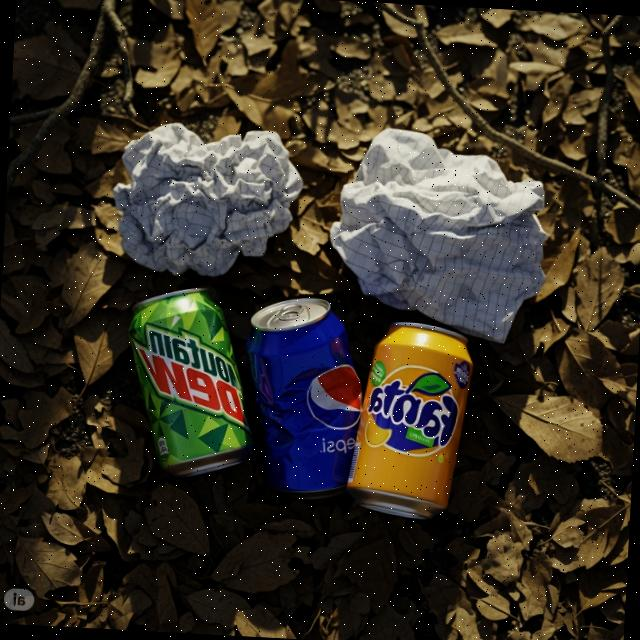aluminum: (120, 283, 260, 485), (238, 292, 368, 506), (346, 316, 476, 524)
paper: (322, 122, 557, 346), (108, 119, 305, 286)
